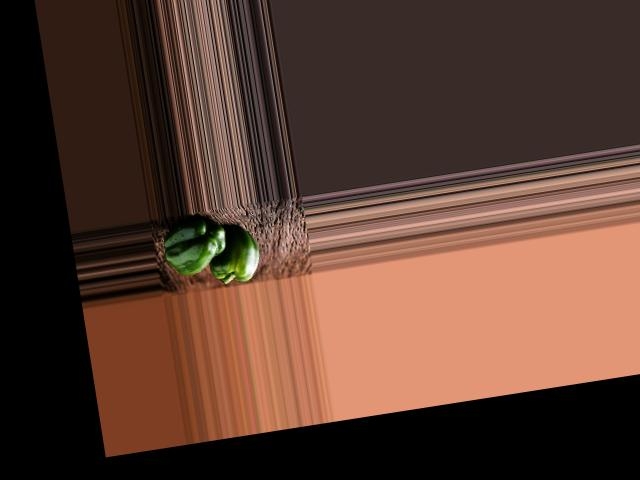bell_pepper: (160, 216, 233, 279)
